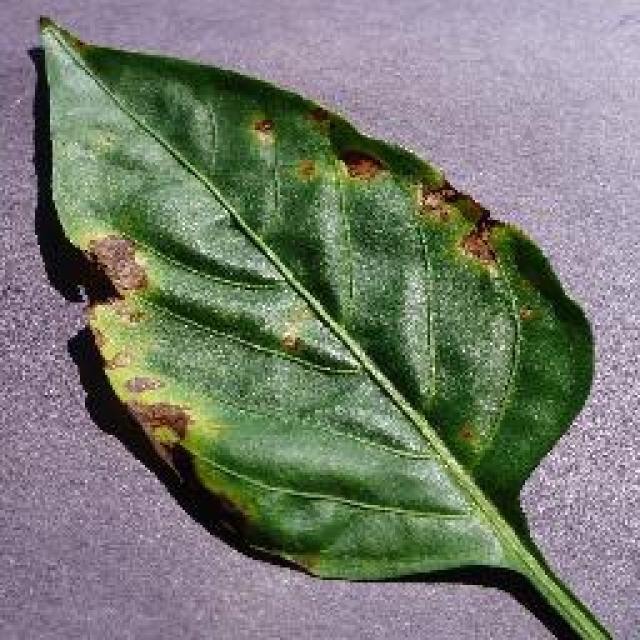Chilli_Bacterial_Spot: (30, 13, 600, 585), (78, 232, 198, 470), (242, 100, 388, 190), (85, 232, 150, 298), (132, 398, 192, 452), (455, 215, 503, 270), (412, 177, 460, 225), (335, 145, 385, 183), (120, 370, 162, 398), (290, 152, 320, 188), (248, 113, 278, 145), (275, 325, 305, 355), (302, 100, 332, 130), (512, 300, 540, 328)
